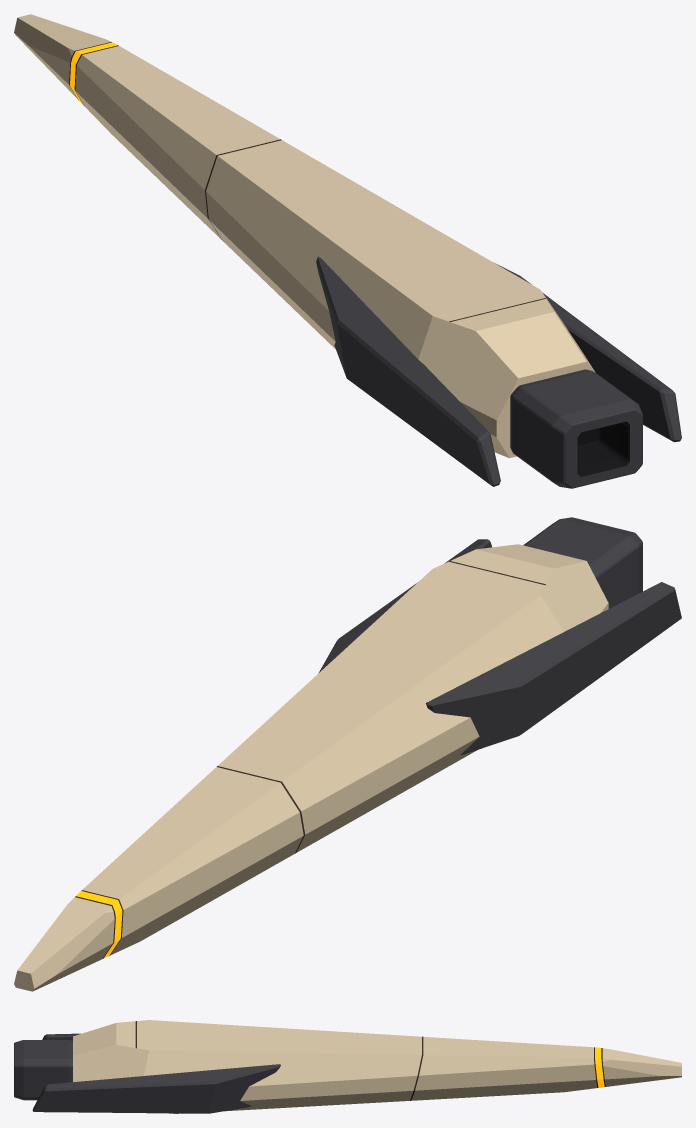
The model's file is A-Longnose.fbx.
The picture shows the model from 3 angles, top to bottom: view 1: azimuth 30°, elevation 25°; view 2: azimuth 150°, elevation 25°; view 3: azimuth 270°, elevation 25°; orthographic projection. The views are drawn at different scales.
Visible parts, largest first — view 1: Longnose • hull, Longnose • square exhaust, Longnose • port fin, Longnose • starboard fin; view 2: Longnose • hull, Longnose • port fin, Longnose • square exhaust, Longnose • starboard fin; view 3: Longnose • hull, Longnose • starboard fin, Longnose • square exhaust, Longnose • port fin.
Boxes of the visible parts, left/top/right/bottom form: Longnose • hull: left=14, top=14, right=595, bottom=458; Longnose • square exhaust: left=510, top=369, right=642, bottom=488; Longnose • port fin: left=316, top=256, right=500, bottom=486; Longnose • starboard fin: left=495, top=263, right=681, bottom=442; Longnose • hull: left=14, top=544, right=608, bottom=991; Longnose • port fin: left=426, top=582, right=681, bottom=754; Longnose • square exhaust: left=523, top=517, right=642, bottom=608; Longnose • starboard fin: left=319, top=539, right=491, bottom=672; Longnose • hull: left=73, top=1020, right=681, bottom=1113; Longnose • starboard fin: left=32, top=1064, right=280, bottom=1113; Longnose • square exhaust: left=14, top=1040, right=72, bottom=1100; Longnose • port fin: left=42, top=1033, right=80, bottom=1040.
Bounding box in the file's own units: 110 × 56.36 × 554.
